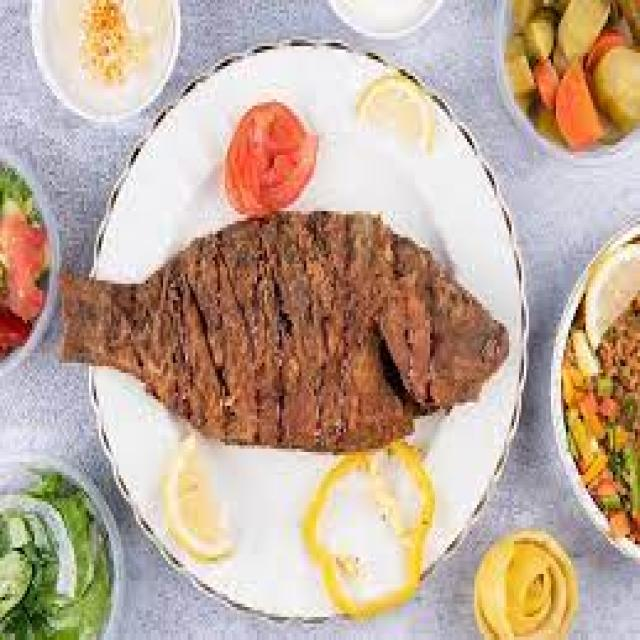Peixe: (54, 204, 509, 452)
